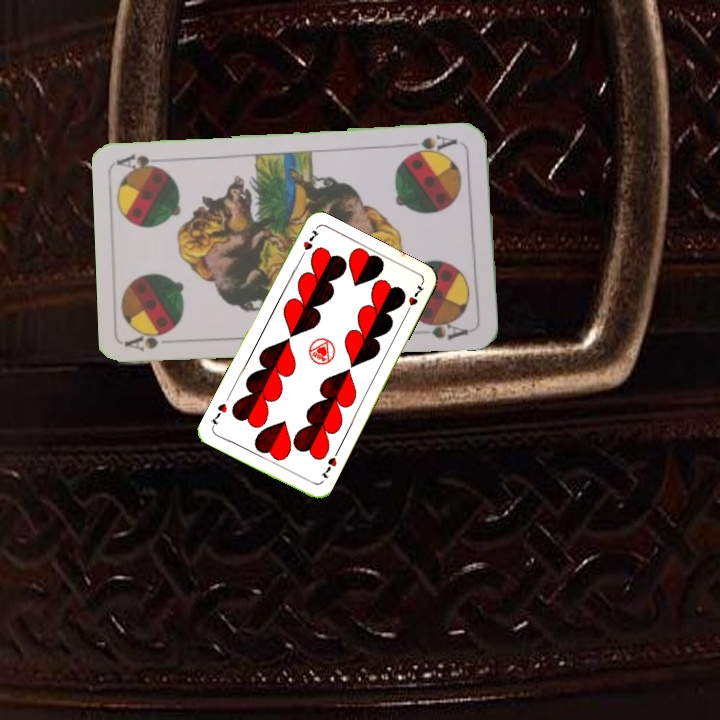H7: (295, 226, 322, 262), (317, 453, 339, 481)
SA: (123, 326, 176, 354), (406, 131, 460, 158)
